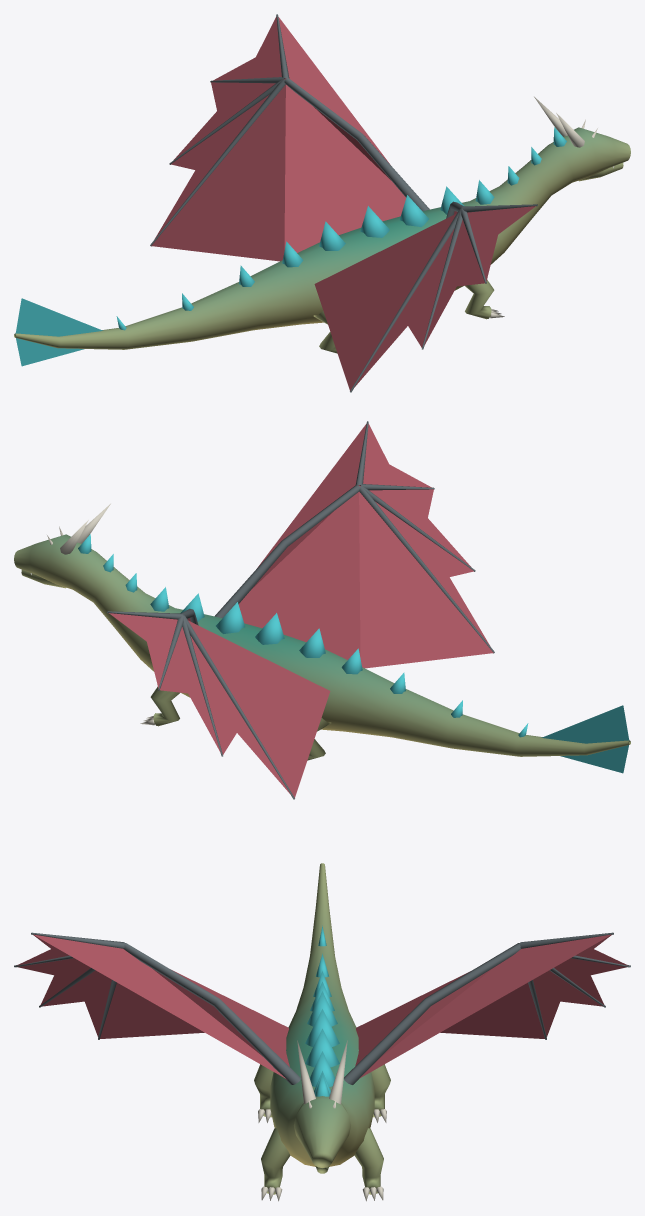
Rendered from dragon.glb.
The picture shows the model from 3 angles, top to bottom: view 1: azimuth 30°, elevation 25°; view 2: azimuth 150°, elevation 25°; view 3: azimuth 270°, elevation 25°; orthographic projection. The views are drawn at different scales.
Visible parts, largest first — view 1: Dragon; view 2: Dragon; view 3: Dragon.
Part boxes in pixels (x1,y1,x2,y2): Dragon: (14, 14, 630, 392); Dragon: (14, 421, 630, 799); Dragon: (14, 863, 630, 1201).
Bounding box in the file's own units: 9.39 × 3.03 × 7.31.
